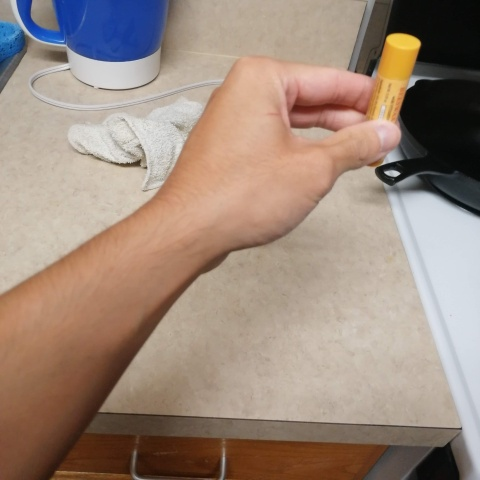chapstick: (362, 30, 424, 126)
